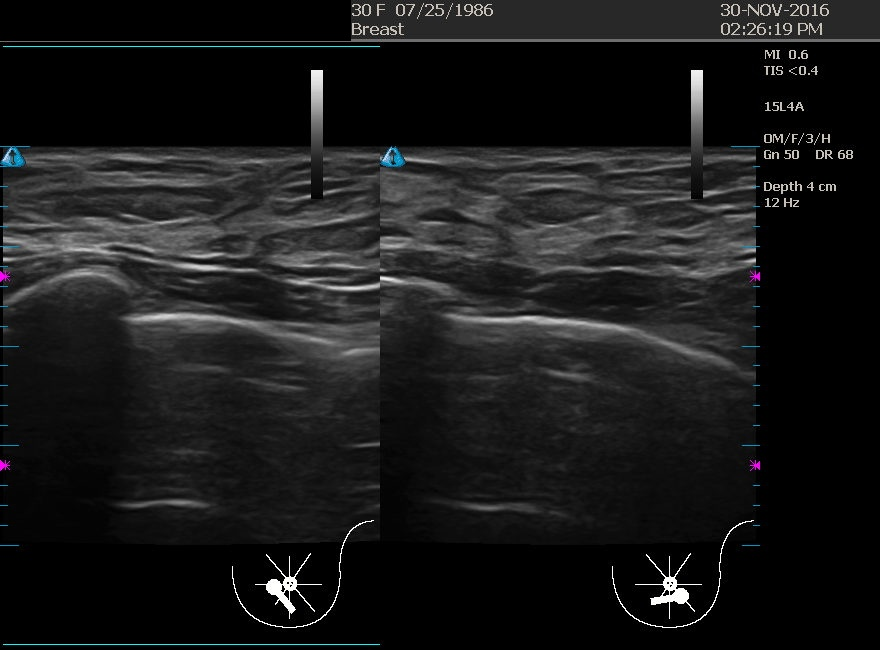Benign: (39, 155, 239, 355), (452, 164, 652, 364)
